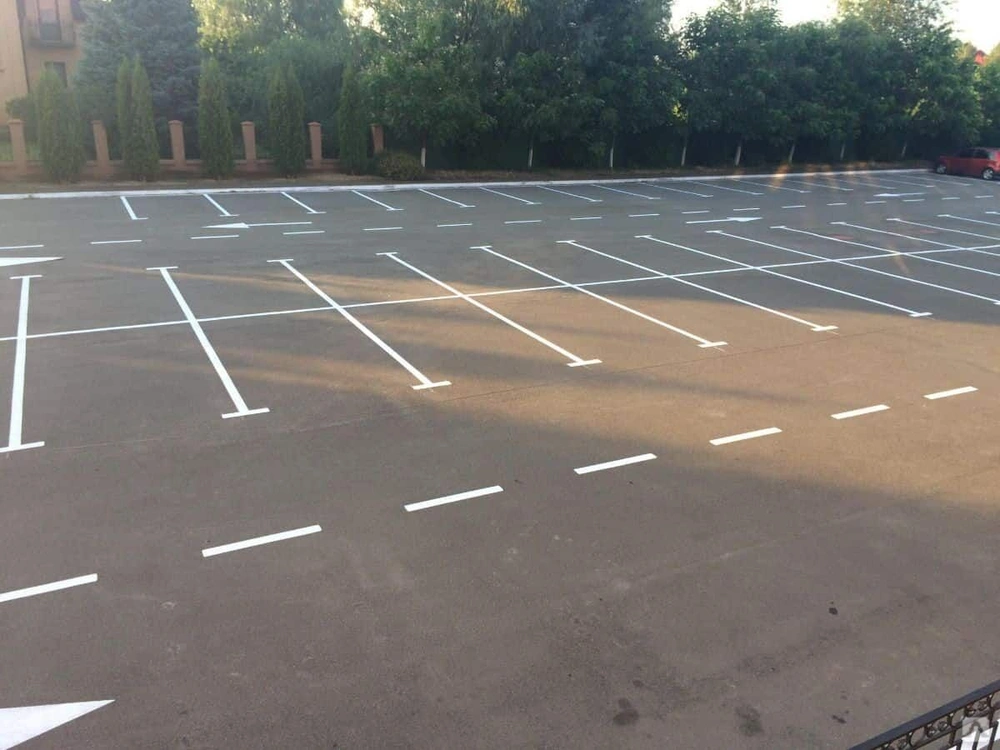Car: (933, 147, 1000, 180)
